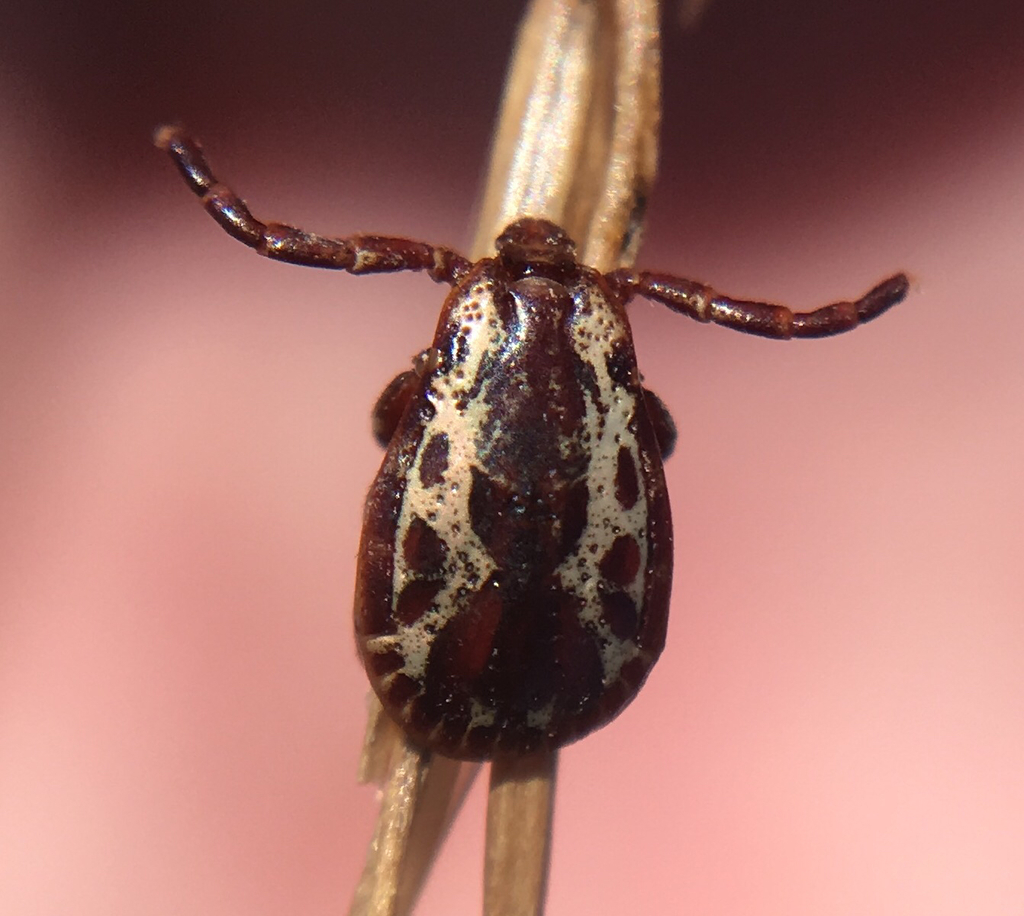garrapata: (145, 109, 927, 794)
